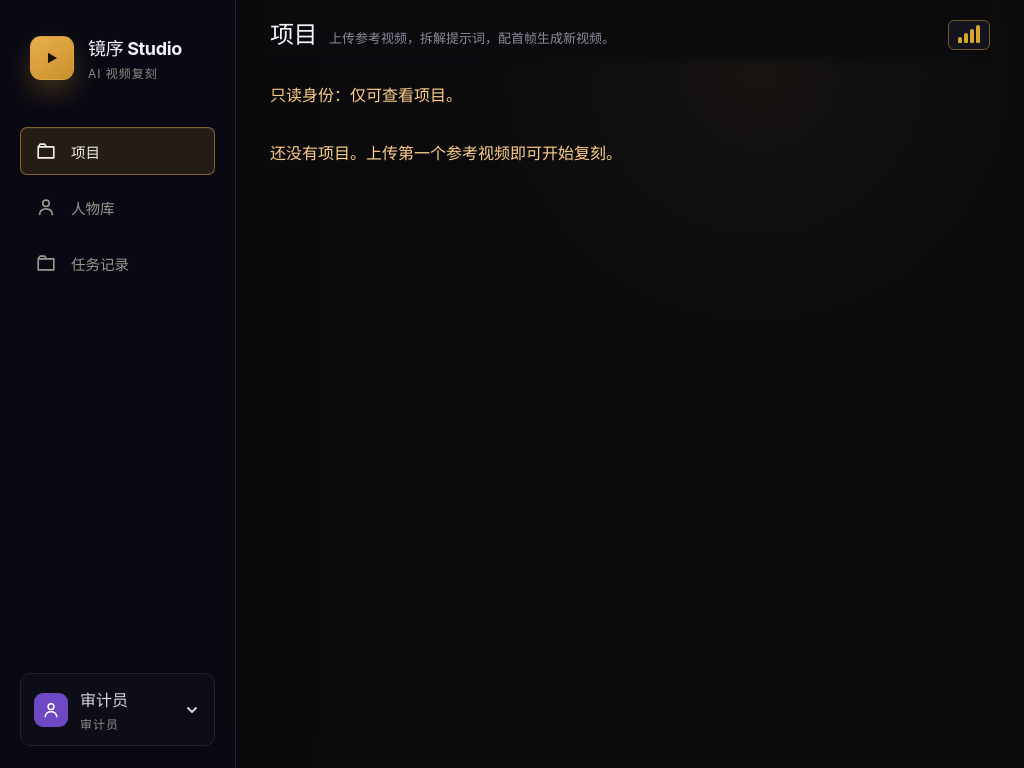
App › falls back from an unauthorized deep link and hides write-only entries
Expected: the heading "项目" is shown, [270, 20, 317, 50]
Step 1. Click the button with aria-label "用户菜单" → (118, 710), box [20, 673, 215, 746]
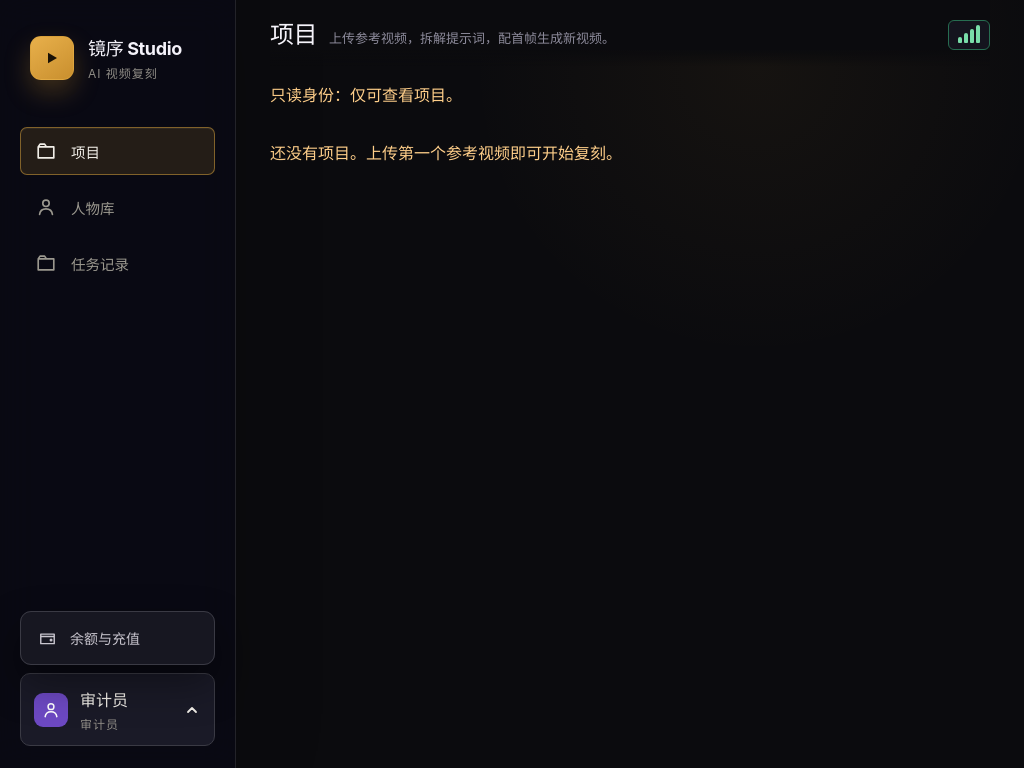
Expected: the button "人物库" is enabled, [20, 183, 215, 231]
Expected: the button "余额与充值" is enabled, [27, 618, 208, 658]
